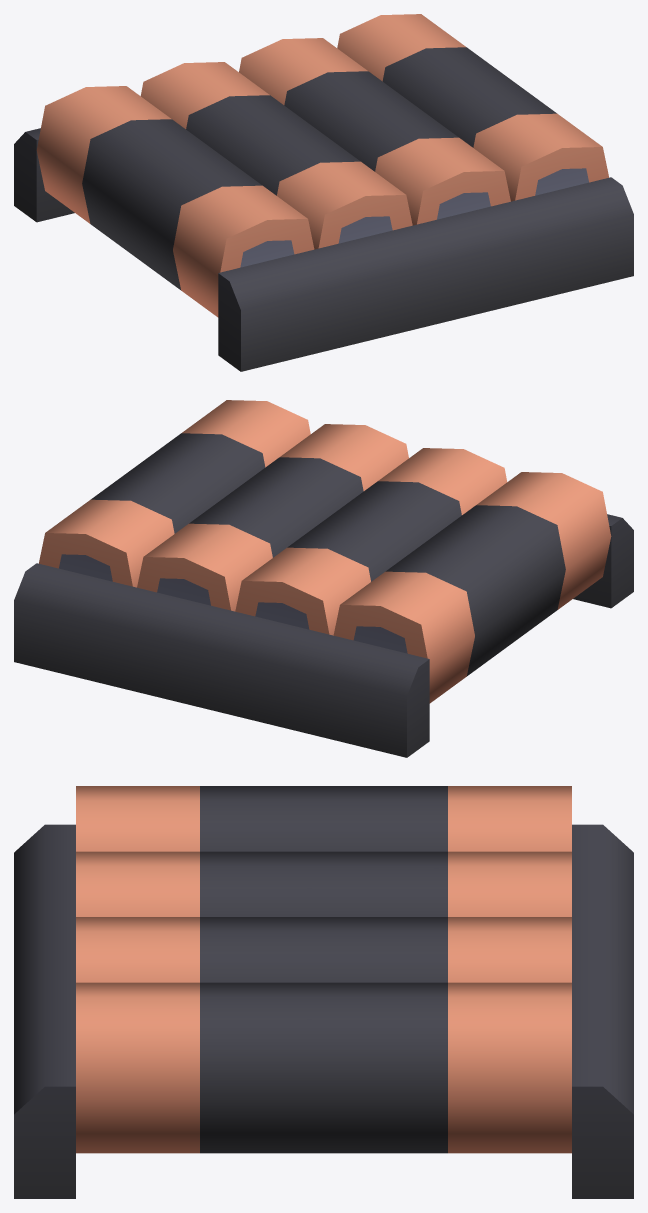
The model's file is conveyor-bars-stripe-side.obj.
3 views of the same model, one above another, from view 1: azimuth 30°, elevation 25°; view 2: azimuth 150°, elevation 25°; view 3: azimuth 270°, elevation 25° (orthographic). The views are drawn at different scales.
Visible parts, largest first — view 1: conveyor-bars-stripe-side; view 2: conveyor-bars-stripe-side; view 3: conveyor-bars-stripe-side.
Part boxes in pixels (x1,y1,x2,y2): conveyor-bars-stripe-side: (14, 14, 633, 371); conveyor-bars-stripe-side: (14, 400, 633, 757); conveyor-bars-stripe-side: (14, 786, 633, 1198).
Bounding box in the file's own units: 1 × 0.3 × 1.
